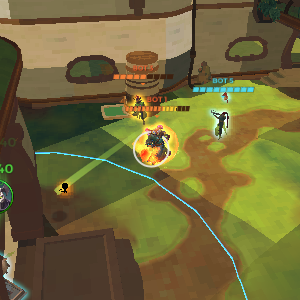model: (144, 118, 170, 169), (128, 93, 146, 127)
